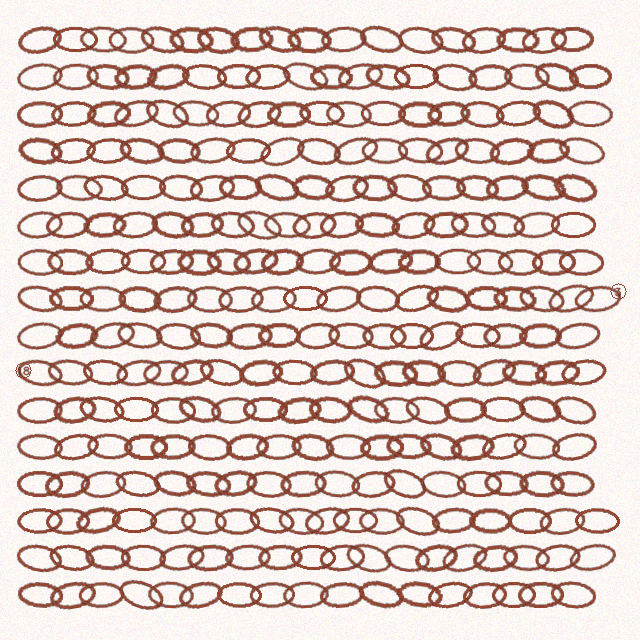chain: (339, 352, 390, 394), (415, 315, 467, 356), (379, 463, 431, 504), (115, 574, 167, 615), (256, 131, 309, 171), (233, 205, 286, 245), (392, 501, 444, 541), (528, 94, 579, 134), (279, 57, 331, 96), (545, 279, 597, 318), (531, 57, 582, 96), (142, 94, 193, 133), (343, 390, 394, 429), (330, 132, 382, 170), (343, 539, 395, 577), (422, 132, 473, 170), (549, 391, 600, 429), (416, 428, 466, 466), (356, 21, 407, 58), (111, 95, 162, 132), (251, 169, 302, 206), (391, 280, 442, 317), (196, 354, 247, 391), (469, 354, 520, 391), (439, 539, 490, 576), (355, 576, 406, 613), (255, 21, 305, 58), (550, 169, 600, 206), (175, 391, 225, 428), (515, 391, 565, 428), (137, 22, 188, 58), (556, 133, 607, 169), (402, 392, 453, 428), (176, 577, 226, 613), (335, 59, 386, 94), (384, 170, 435, 205), (87, 318, 138, 353), (302, 503, 353, 538), (567, 540, 618, 575), (15, 22, 65, 57), (518, 170, 568, 205), (479, 429, 529, 464), (549, 429, 599, 464), (73, 503, 123, 538), (51, 430, 102, 464), (14, 541, 65, 575), (47, 578, 98, 612), (168, 355, 217, 390), (412, 540, 461, 575), (396, 23, 446, 57), (428, 23, 478, 57), (322, 171, 372, 205), (15, 282, 65, 316), (113, 467, 163, 501), (47, 541, 97, 575), (382, 541, 432, 575), (425, 578, 475, 612), (194, 23, 243, 57), (144, 60, 193, 94), (363, 60, 412, 94), (430, 60, 479, 94), (117, 134, 166, 168), (294, 134, 343, 168), (487, 134, 536, 168), (314, 282, 363, 316), (517, 282, 566, 316), (553, 319, 602, 353), (15, 356, 64, 390), (114, 356, 163, 390), (188, 134, 238, 167), (157, 541, 207, 574), (235, 97, 283, 131), (389, 208, 437, 242), (289, 430, 337, 464), (15, 60, 64, 93), (15, 208, 64, 241), (231, 245, 280, 278), (15, 319, 64, 352), (115, 319, 164, 352), (559, 356, 608, 389), (77, 393, 126, 426), (247, 504, 296, 537), (533, 541, 582, 574), (395, 578, 444, 611), (81, 172, 131, 204), (16, 134, 64, 167), (149, 208, 197, 241), (424, 282, 472, 315), (51, 393, 99, 426), (151, 467, 199, 500), (212, 467, 260, 500), (520, 24, 569, 56), (290, 209, 339, 241), (512, 209, 561, 241), (151, 283, 200, 315), (573, 283, 622, 315), (79, 468, 128, 500), (419, 468, 468, 500), (538, 505, 587, 537), (84, 61, 132, 93), (458, 98, 506, 130), (49, 135, 97, 167), (188, 172, 236, 204), (479, 209, 527, 241), (53, 320, 101, 352), (154, 320, 202, 352), (533, 357, 581, 389), (275, 394, 323, 426), (448, 431, 496, 463), (43, 468, 91, 500), (184, 468, 232, 500), (349, 468, 397, 500), (277, 505, 325, 537), (471, 542, 519, 574), (171, 98, 220, 129), (204, 98, 253, 129), (494, 98, 543, 129), (512, 431, 561, 462), (460, 24, 507, 56), (454, 172, 501, 204), (484, 172, 531, 204), (396, 135, 444, 166), (157, 172, 205, 203), (44, 209, 92, 240), (111, 209, 159, 240), (209, 209, 257, 240), (318, 209, 366, 240), (205, 246, 253, 277), (294, 246, 342, 277), (366, 246, 414, 277), (294, 320, 342, 351), (46, 357, 94, 388), (81, 357, 129, 388), (308, 357, 356, 388), (313, 468, 361, 499), (430, 505, 478, 536), (318, 542, 366, 573), (549, 579, 597, 610), (449, 210, 498, 240), (465, 247, 514, 277), (85, 98, 132, 129), (290, 172, 337, 203), (259, 246, 306, 277), (354, 283, 401, 314), (188, 320, 235, 351), (237, 357, 284, 388), (400, 357, 447, 388), (307, 394, 354, 425), (224, 431, 271, 462), (180, 62, 228, 92), (50, 99, 98, 129), (325, 99, 373, 129), (85, 136, 133, 166), (453, 136, 501, 166), (16, 173, 64, 203), (55, 173, 103, 203), (263, 210, 311, 240), (353, 210, 401, 240), (148, 247, 196, 277), (225, 321, 273, 351), (142, 358, 190, 388), (500, 358, 548, 388), (210, 395, 258, 425), (373, 395, 421, 425), (16, 432, 64, 462), (245, 469, 293, 499), (502, 543, 550, 573), (16, 580, 64, 610), (318, 580, 366, 610), (461, 580, 509, 610), (244, 62, 291, 92), (467, 62, 514, 92), (525, 136, 572, 166), (179, 210, 226, 240), (217, 284, 264, 314), (250, 284, 297, 314), (372, 358, 419, 388), (436, 358, 483, 388), (186, 432, 233, 462), (549, 469, 596, 499), (180, 506, 227, 536), (79, 25, 127, 54), (52, 62, 100, 91), (566, 99, 614, 128), (46, 247, 94, 276), (454, 321, 502, 350), (271, 358, 319, 387), (479, 395, 527, 424), (279, 469, 327, 498), (186, 543, 234, 572), (113, 62, 159, 92), (426, 99, 472, 129), (156, 136, 202, 166), (82, 210, 128, 240), (117, 284, 163, 314), (492, 284, 538, 314), (320, 25, 367, 54), (503, 62, 550, 91), (298, 99, 345, 128), (351, 173, 398, 202), (422, 210, 469, 239), (84, 247, 131, 276), (327, 321, 374, 350), (86, 432, 133, 461), (385, 432, 432, 461), (483, 469, 530, 498), (518, 469, 565, 498), (149, 506, 196, 535), (84, 543, 131, 572), (224, 543, 271, 572), (257, 543, 304, 572), (147, 580, 194, 609), (282, 580, 329, 609), (16, 396, 64, 424), (255, 433, 303, 461), (168, 25, 214, 54), (229, 25, 275, 54), (286, 25, 332, 54), (108, 26, 155, 54), (16, 100, 63, 128), (361, 137, 408, 165), (497, 248, 544, 276), (558, 248, 605, 276), (79, 285, 126, 313), (186, 285, 233, 313), (361, 322, 408, 350), (482, 322, 529, 350), (149, 433, 196, 461), (325, 433, 372, 461), (16, 507, 63, 535), (358, 507, 405, 535), (78, 581, 125, 609), (216, 581, 263, 609), (495, 26, 541, 54), (225, 137, 271, 165), (421, 174, 467, 202), (17, 248, 63, 276), (176, 248, 222, 276), (531, 248, 577, 276), (150, 396, 196, 424), (45, 507, 91, 535), (214, 507, 260, 535), (574, 507, 620, 535), (249, 581, 295, 609), (393, 63, 440, 90), (120, 174, 167, 201), (550, 211, 597, 238), (120, 248, 167, 275), (434, 248, 481, 275), (282, 285, 329, 312), (16, 470, 63, 497), (456, 470, 503, 497), (120, 544, 167, 571), (517, 581, 564, 608), (309, 63, 354, 91), (266, 100, 311, 128), (397, 100, 442, 128), (328, 248, 373, 276), (397, 248, 442, 276), (518, 322, 563, 350), (443, 396, 488, 424), (359, 433, 404, 461), (468, 507, 513, 535), (52, 26, 98, 53), (216, 63, 262, 90), (360, 100, 406, 127), (48, 285, 94, 312), (113, 396, 159, 423), (242, 396, 288, 423), (111, 507, 157, 534), (332, 507, 378, 534), (507, 507, 553, 534), (290, 544, 336, 571), (550, 26, 595, 53), (568, 63, 613, 90), (218, 174, 263, 201), (464, 285, 509, 312), (257, 322, 302, 349), (389, 322, 434, 349), (123, 433, 168, 460), (491, 581, 536, 608)
noise: (608, 281, 628, 301), (13, 360, 33, 380)
